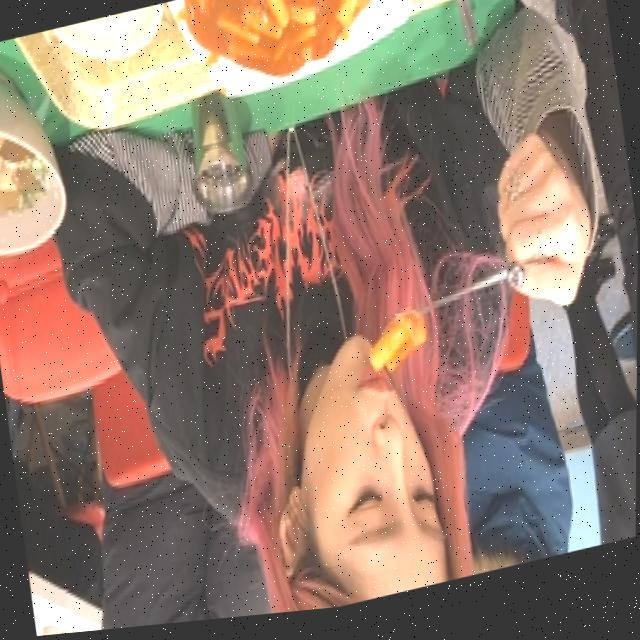eating-person: (17, 0, 640, 638)
